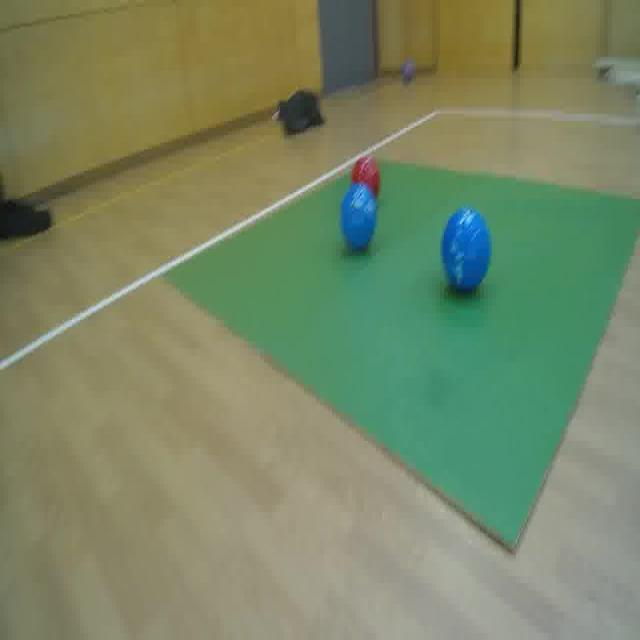blue_ball: (439, 205, 493, 300), (338, 185, 380, 250)
purple_ball: (401, 60, 417, 88)
red_ball: (350, 152, 384, 206)
